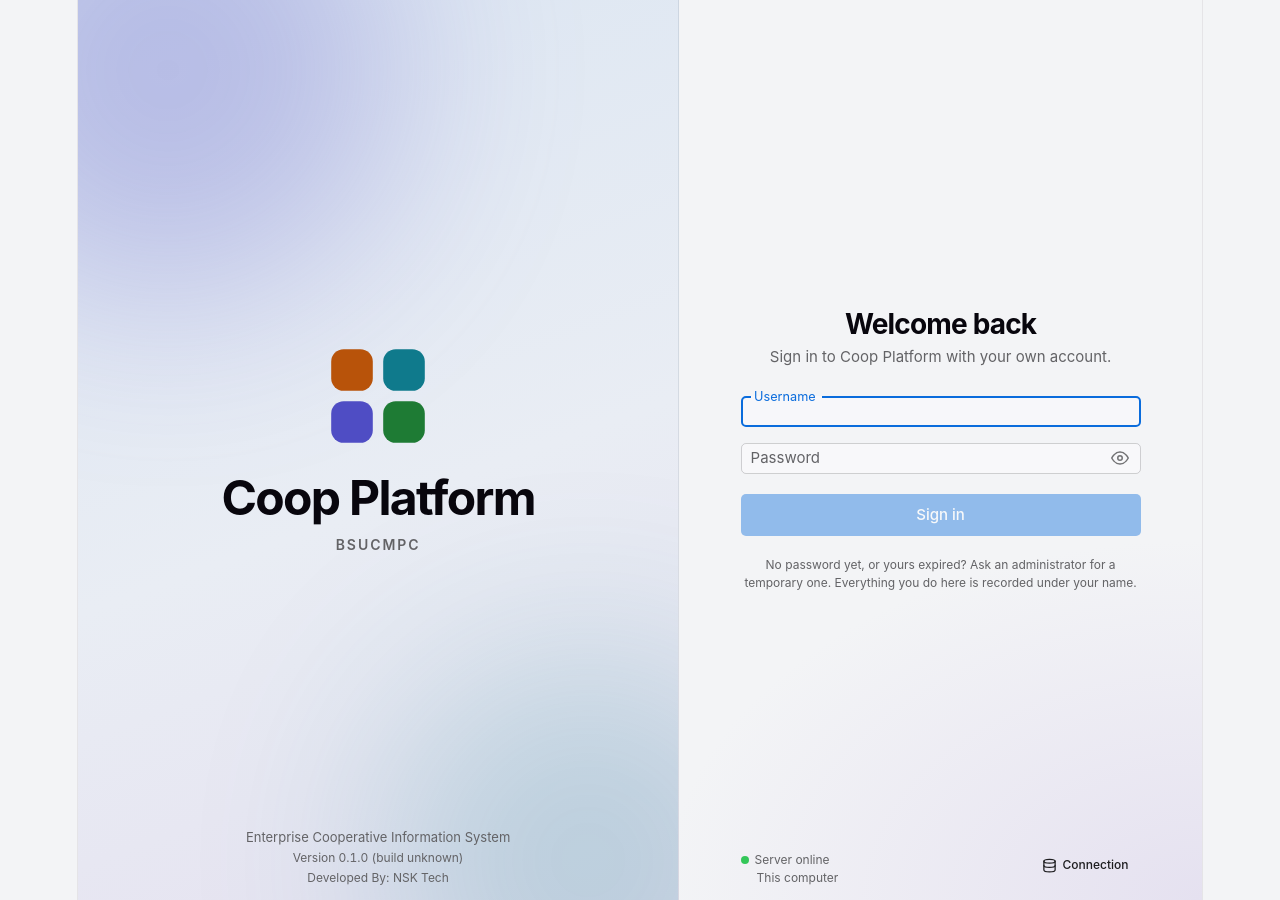
sign-in screen › says plainly when the account is disabled, not as a wrong password
The width and height of the screenshot is (1280, 900).
Type "nathan" into the field labelled "Username". click: x=941, y=411
box: [741,396,1141,427]
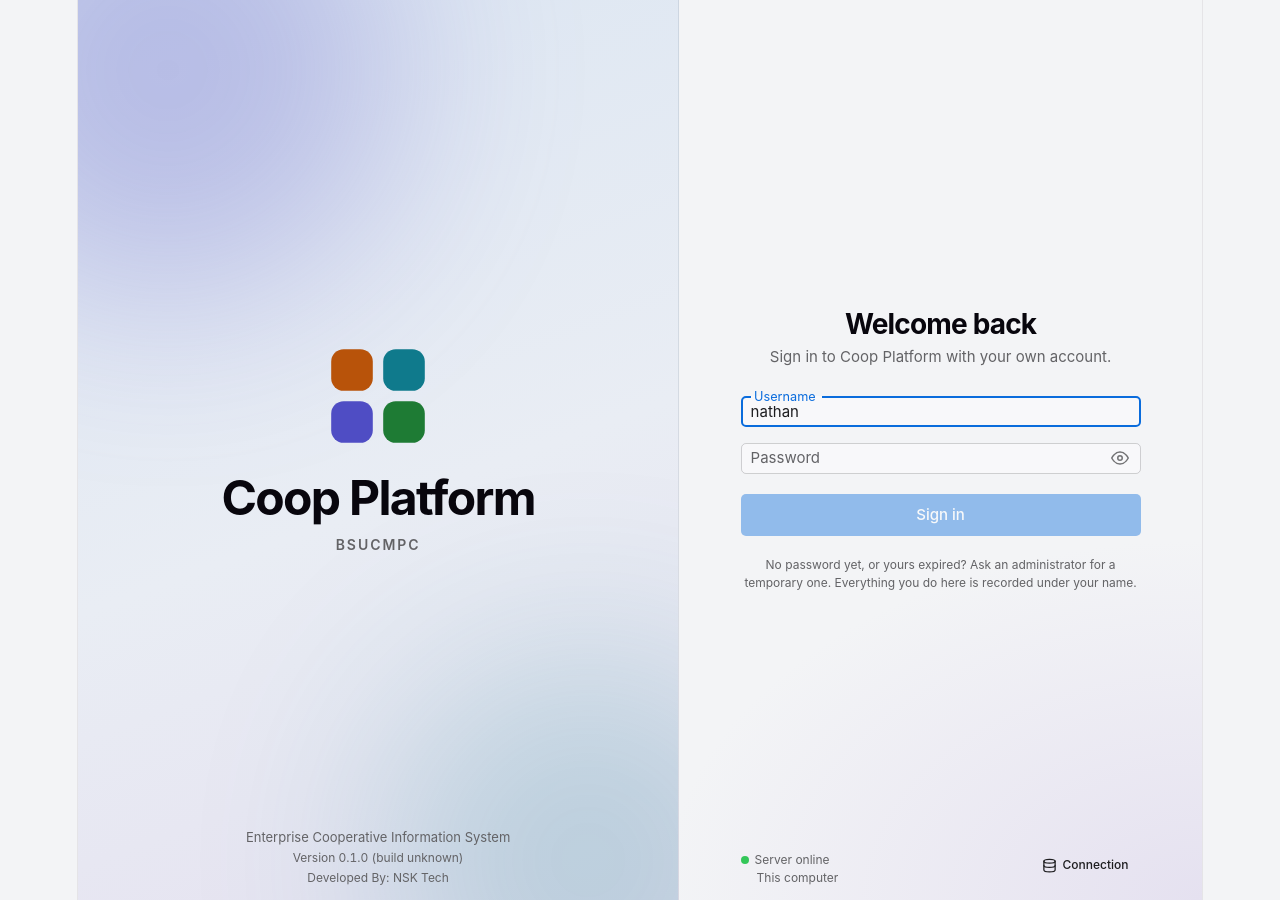
Type "secret" into the password field labelled "Password". click: x=919, y=458
box: [741,443,1098,474]
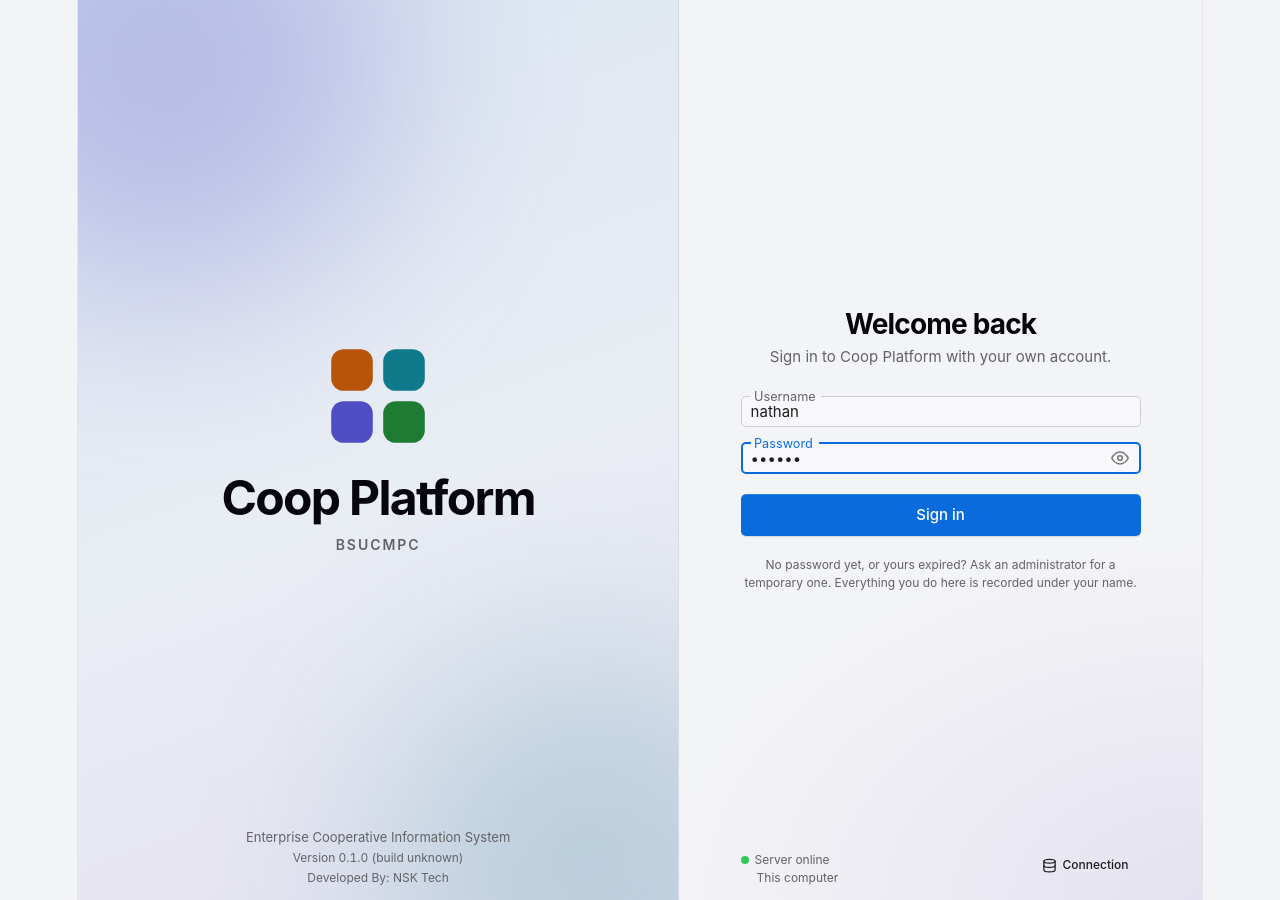
Click the button "Sign in". click: x=941, y=515
box: [741,494,1141,536]
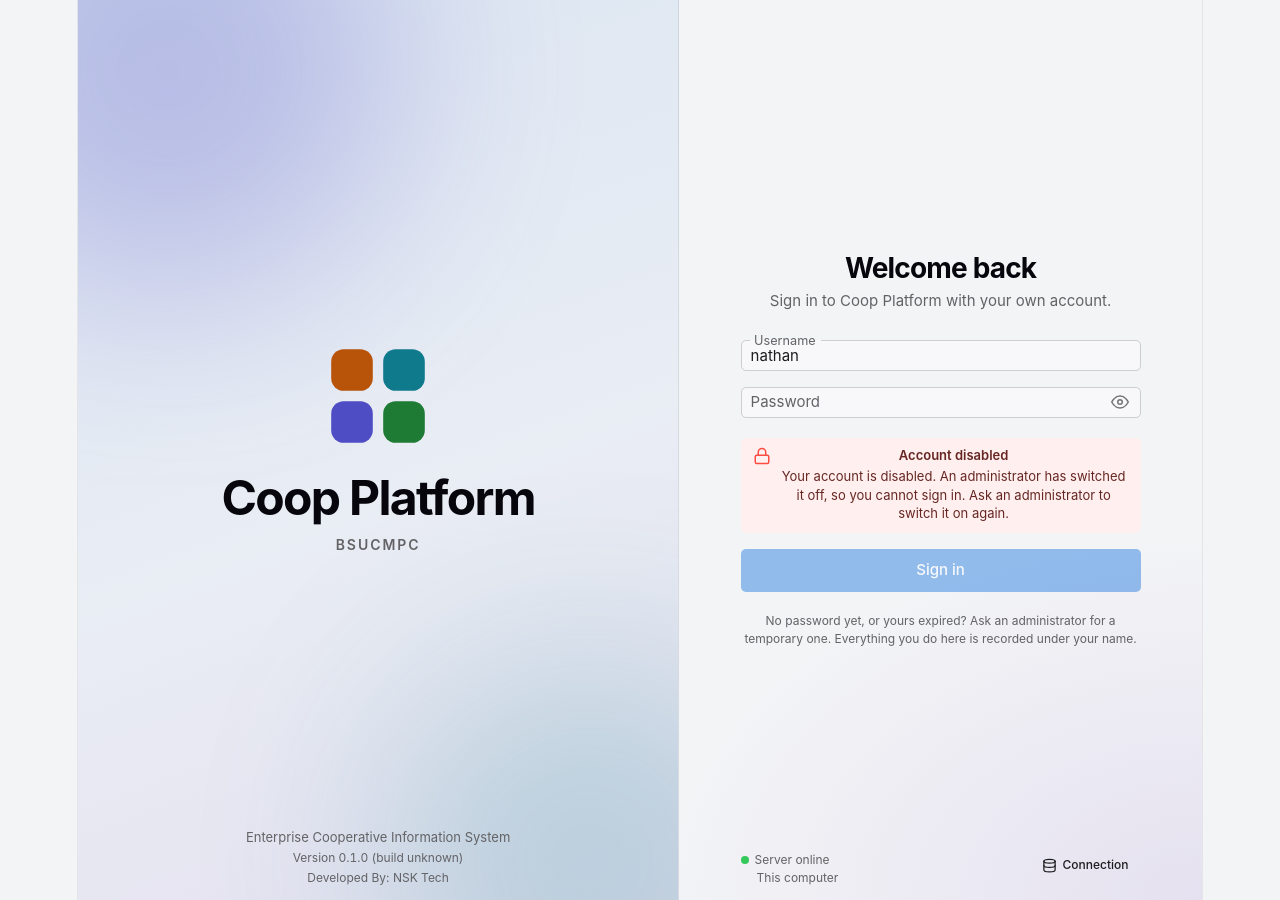
Expected: the message that starts with "Account disabled" does not show "wrong", [741,438,1141,533]
Now the message that starts with "Account disabled" is shown, box [899,447,1008,463]
Now the message that starts with "Account disabled" shows "Your account is disabled.", box [782,468,1125,521]
